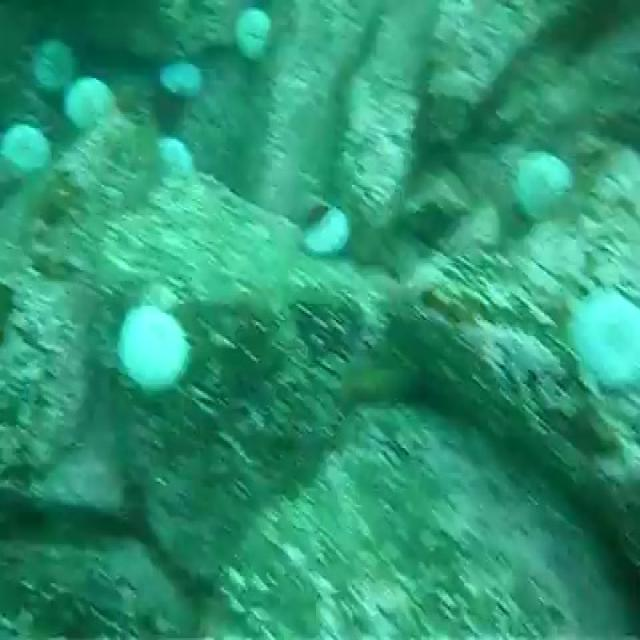Deniz Kestanesi: (567, 277, 640, 394), (116, 300, 203, 392), (510, 147, 580, 224), (302, 207, 368, 264), (156, 44, 212, 108), (0, 118, 53, 182), (66, 77, 116, 128), (156, 126, 201, 182), (233, 9, 274, 59)
